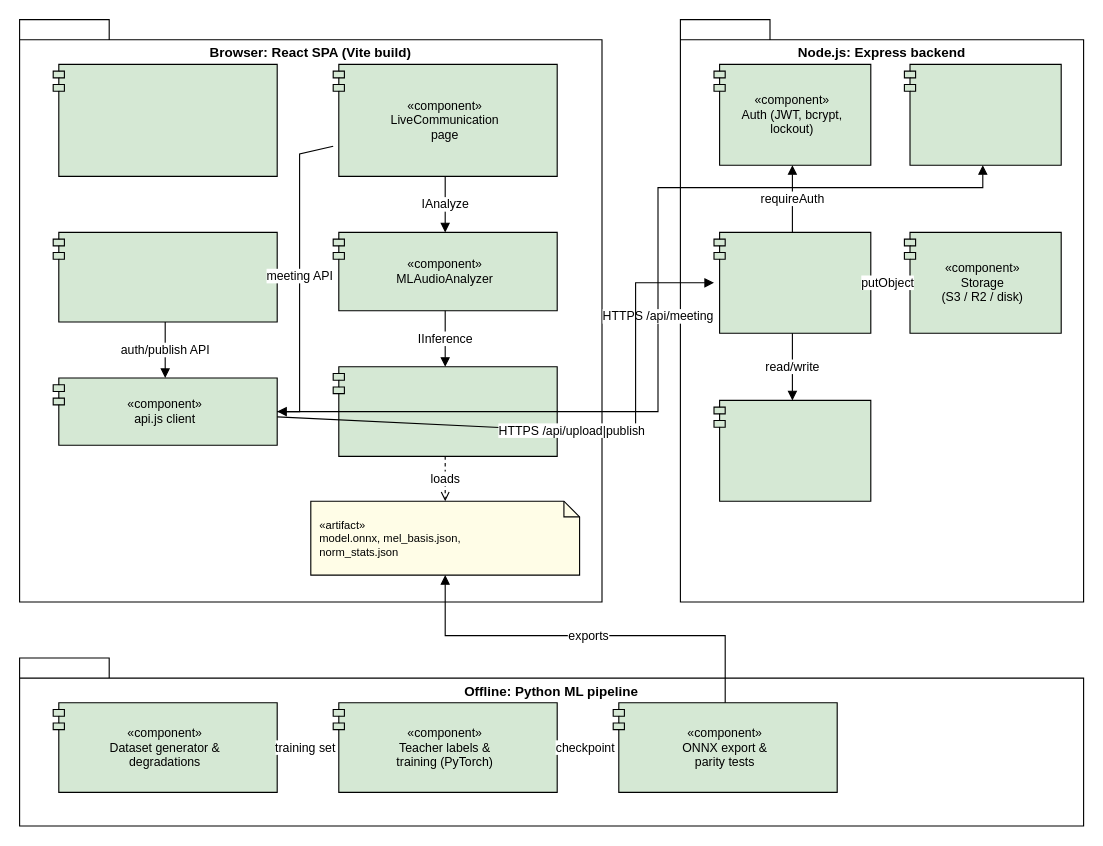
The diagram is 1103 pixels wide and 846 high, and some of its shapes have lost their labels. Each missing label, with the centre of its shape:
"«component» Admin & Deliverable pages" goes at (164,276).
"«component» DB shim (JSON file)" goes at (792,450).
"«component» Meeting signalling" goes at (982,114).
"«component» onnxruntime-web (WASM)" goes at (444,411).
"«component» Site pages (Home, Project, Team, Timeline, Architecture)" goes at (164,119).
"«component» Upload / Publish / Deliverables" goes at (792,282).
